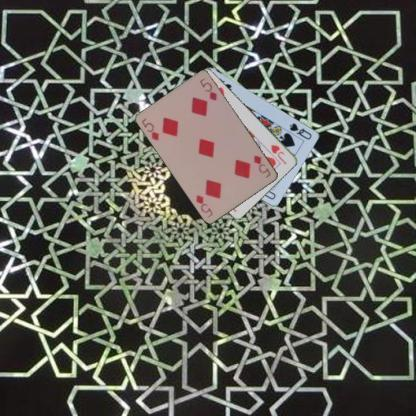5d: (139, 115, 161, 142), (251, 152, 272, 180)
Jh: (268, 142, 288, 166)
Qs: (287, 120, 313, 141)
